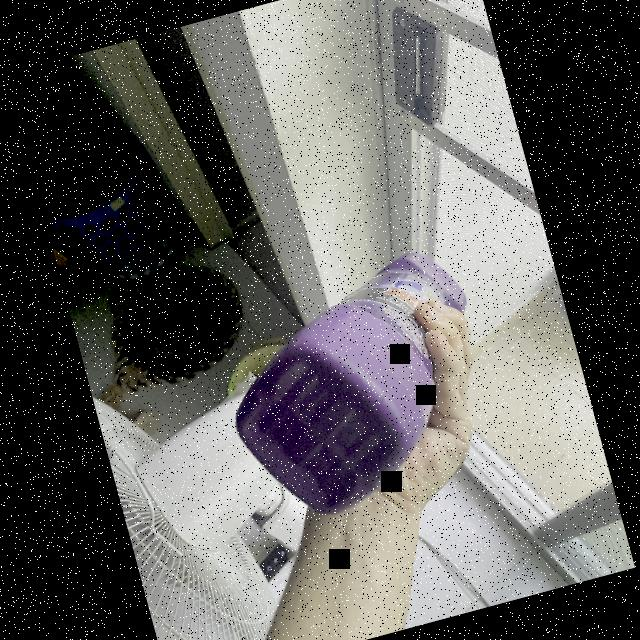toilet_cleaner: (200, 237, 514, 537)
